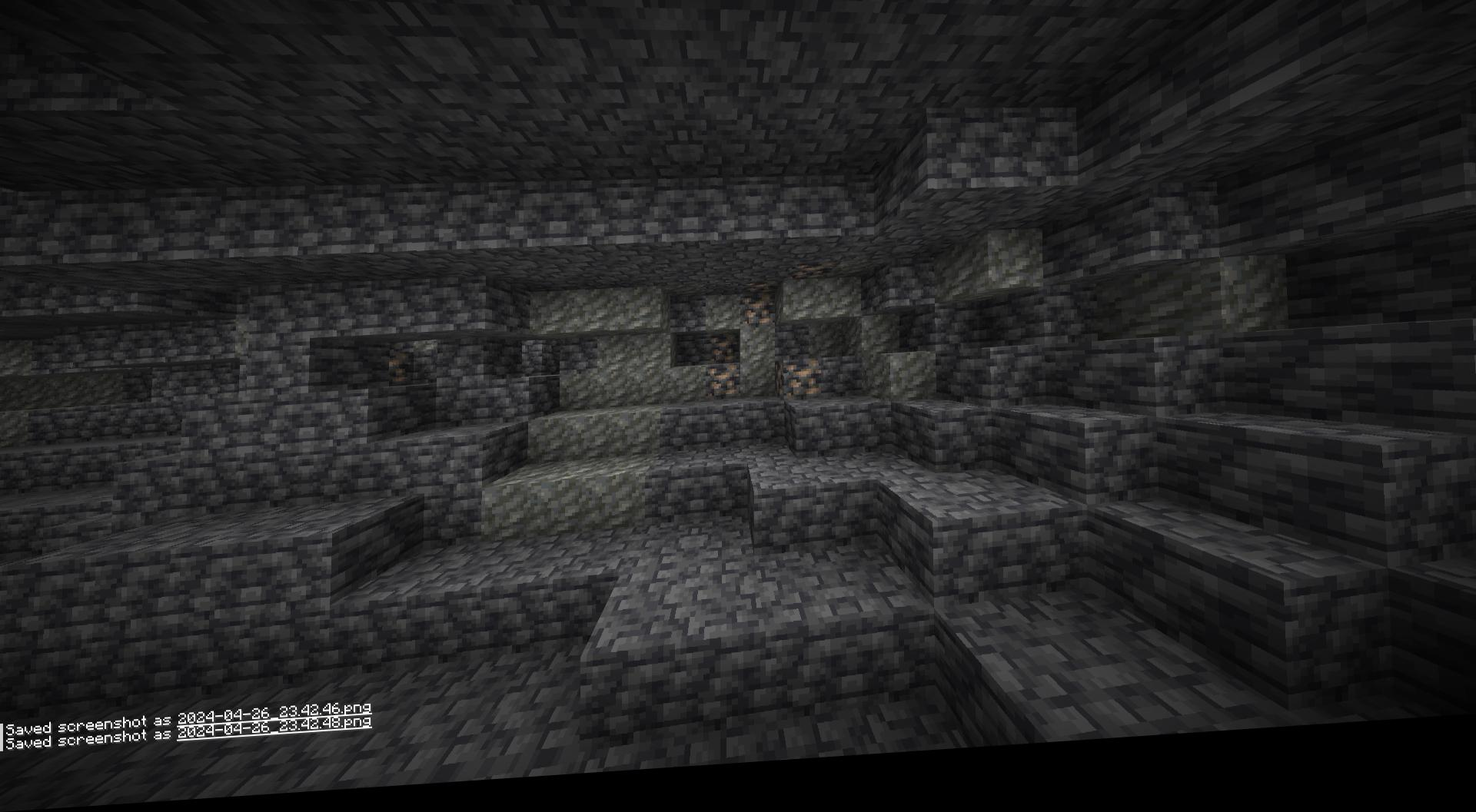iron ore: (374, 347, 418, 393), (774, 368, 819, 411), (711, 370, 743, 408), (709, 338, 741, 373), (745, 303, 780, 332), (793, 272, 829, 294)
